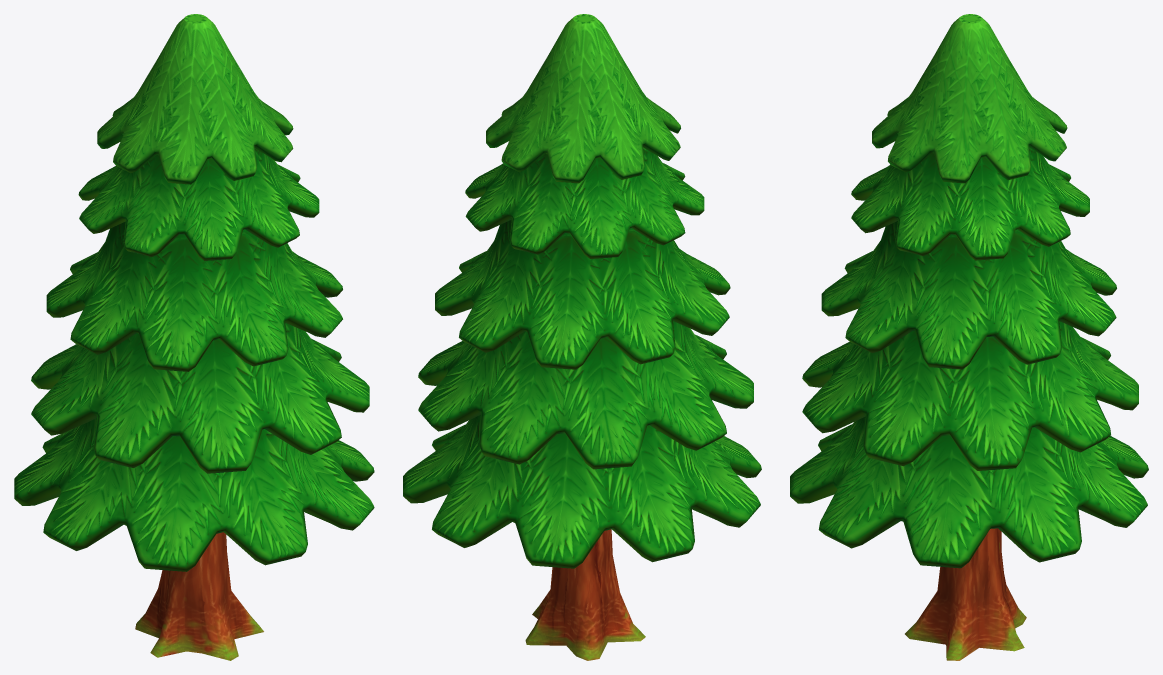
File: Tree05.FBX
3 renders of one model, left to right at view 1: azimuth 30°, elevation 25°; view 2: azimuth 150°, elevation 25°; view 3: azimuth 270°, elevation 25°, orthographic.
Visible parts, largest first — view 1: Tree05; view 2: Tree05; view 3: Tree05.
Part boxes in pixels (bbox=[...]): Tree05: bbox=[14, 14, 374, 660]; Tree05: bbox=[403, 14, 761, 660]; Tree05: bbox=[790, 14, 1148, 660].
Size of what is drawn, in the model's own units: 4.05 by 7.55 by 3.99.
